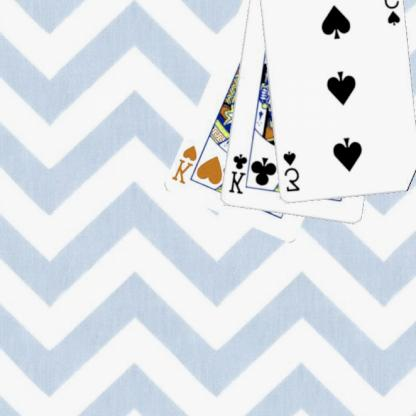3S: (281, 149, 303, 193), (382, 0, 402, 27)
KC: (228, 148, 255, 196)
KH: (170, 143, 200, 186)
